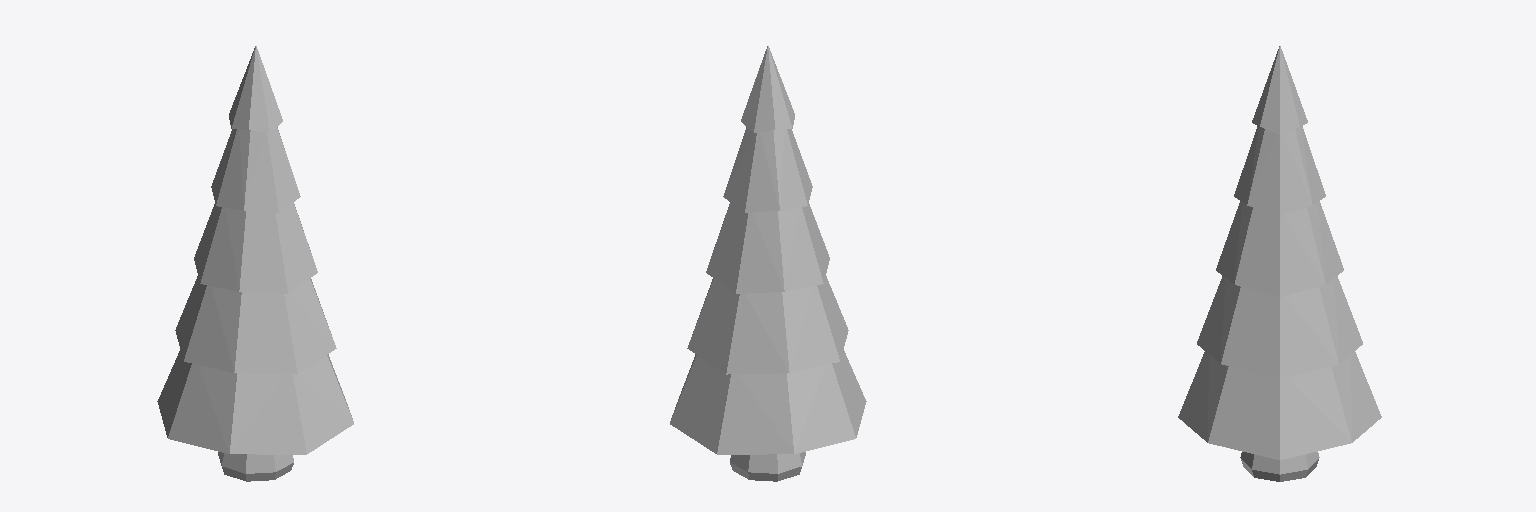
File: pino.obj
The picture shows the model from 3 angles: view 1: azimuth 30°, elevation 25°; view 2: azimuth 150°, elevation 25°; view 3: azimuth 270°, elevation 25°; orthographic projection.
Visible parts, largest first — view 1: Pino_Cylinder.001; view 2: Pino_Cylinder.001; view 3: Pino_Cylinder.001.
Boxes of the visible parts, <box> form: Pino_Cylinder.001: <box>157,46,353,481</box>; Pino_Cylinder.001: <box>670,46,866,481</box>; Pino_Cylinder.001: <box>1178,46,1381,481</box>.
Size of the model in its own units: 2.81 by 6.4 by 2.81.